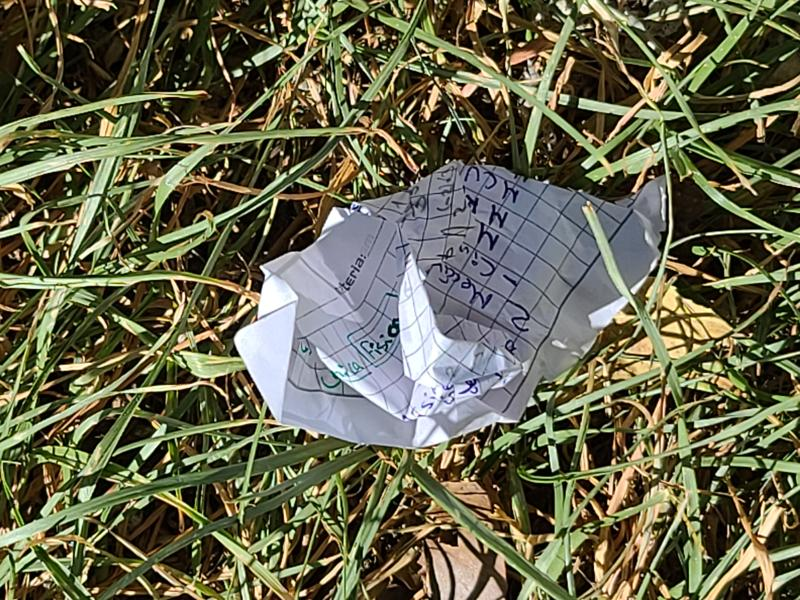papel: (233, 162, 670, 452)
